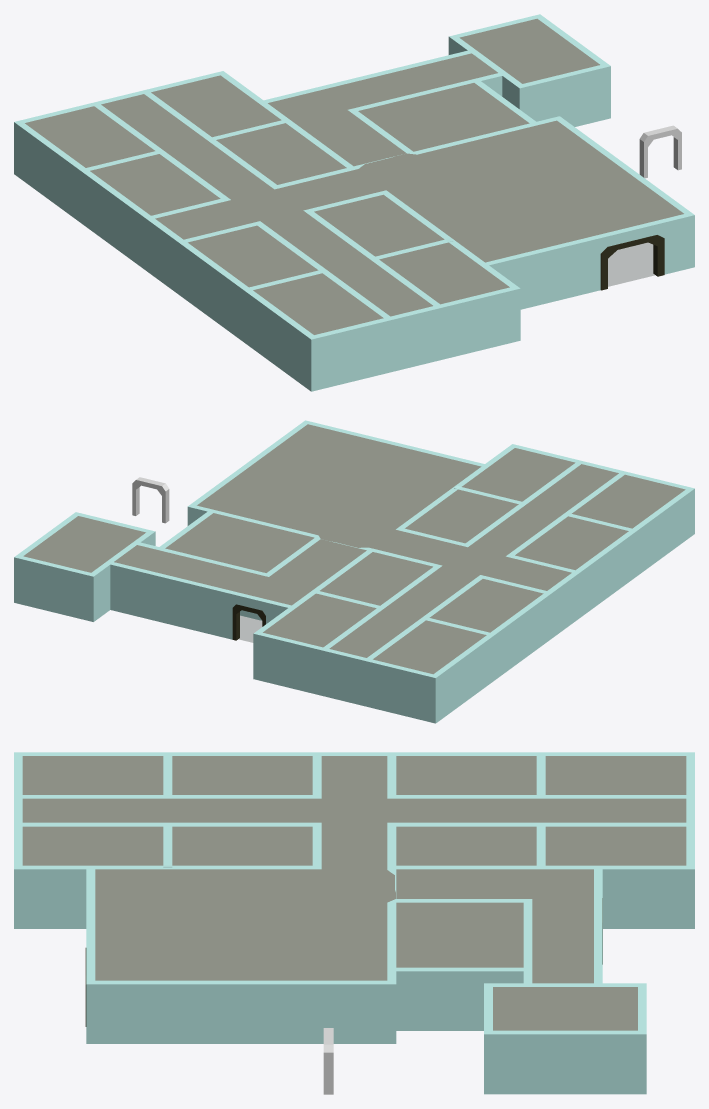
The model's file is level_1 Med Block.fbx.
3 renders of one model, top to bottom at view 1: azimuth 30°, elevation 25°; view 2: azimuth 150°, elevation 25°; view 3: azimuth 270°, elevation 25°, orthographic. The views are drawn at different scales.
Visible parts, largest first — view 1: Floor.002, Walls.002, Floor, Doors, Cube.033; view 2: Floor.002, Walls.002, Cube.033; view 3: Floor.002, Walls.002, Cube.033.
Boxes of the visible parts, box(x1,y1,x2,y2) form: Floor.002: box(25, 18, 683, 334); Walls.002: box(14, 14, 694, 391); Floor: box(608, 242, 655, 286); Doors: box(600, 235, 664, 290); Cube.033: box(639, 125, 681, 178); Floor.002: box(23, 424, 685, 674); Walls.002: box(14, 420, 694, 723); Cube.033: box(132, 477, 169, 523); Floor.002: box(22, 756, 686, 1030); Walls.002: box(14, 752, 694, 1094); Cube.033: box(323, 1028, 333, 1094).
Bounding box in the file's own units: 3046 × 303 × 3100.
Materials: 1 (1 with a texture image).
